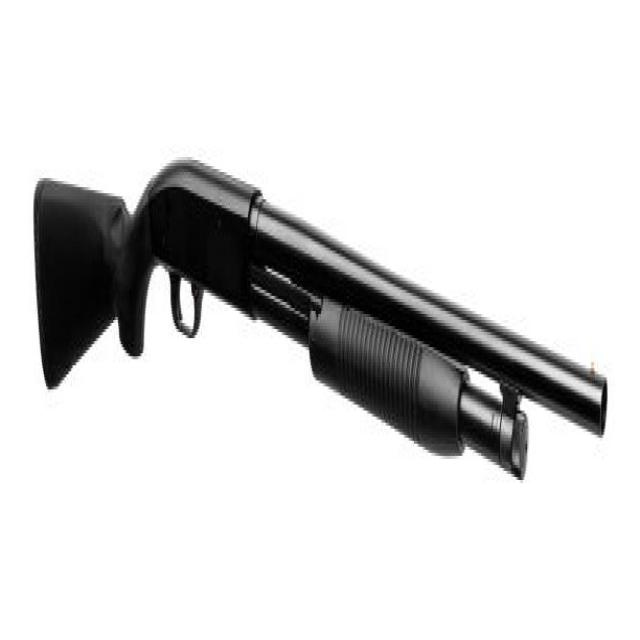rifle: (29, 144, 617, 516)
